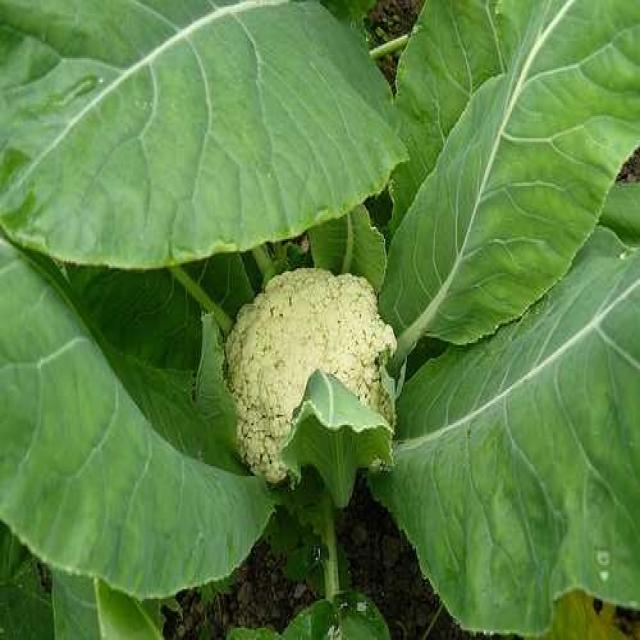cauliflower: (172, 254, 412, 534)
